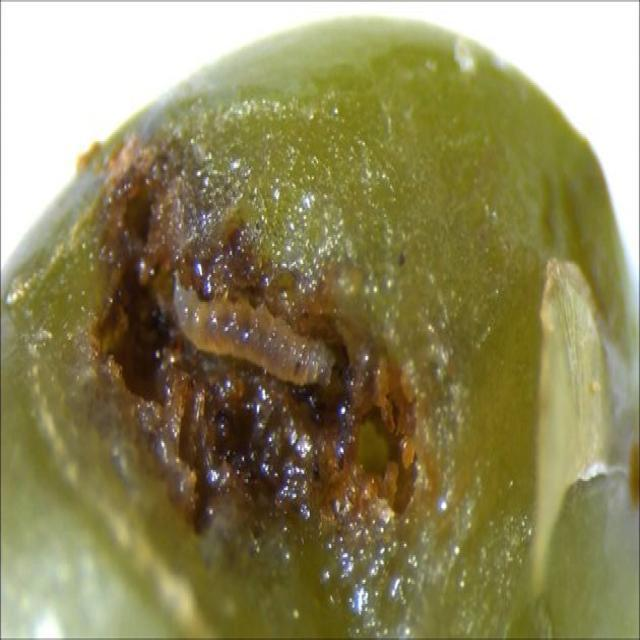Anthracnose: (92, 135, 440, 608)
